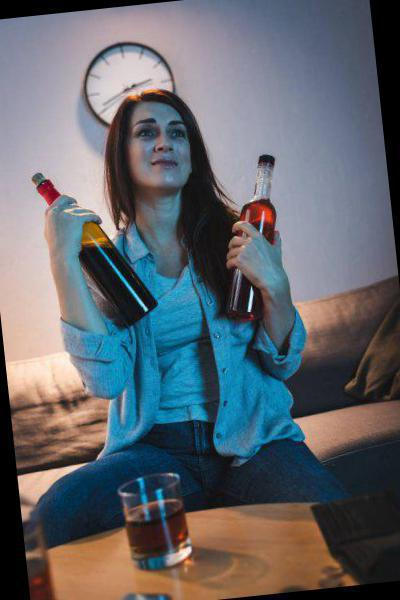Drunk: (125, 103, 193, 186)
